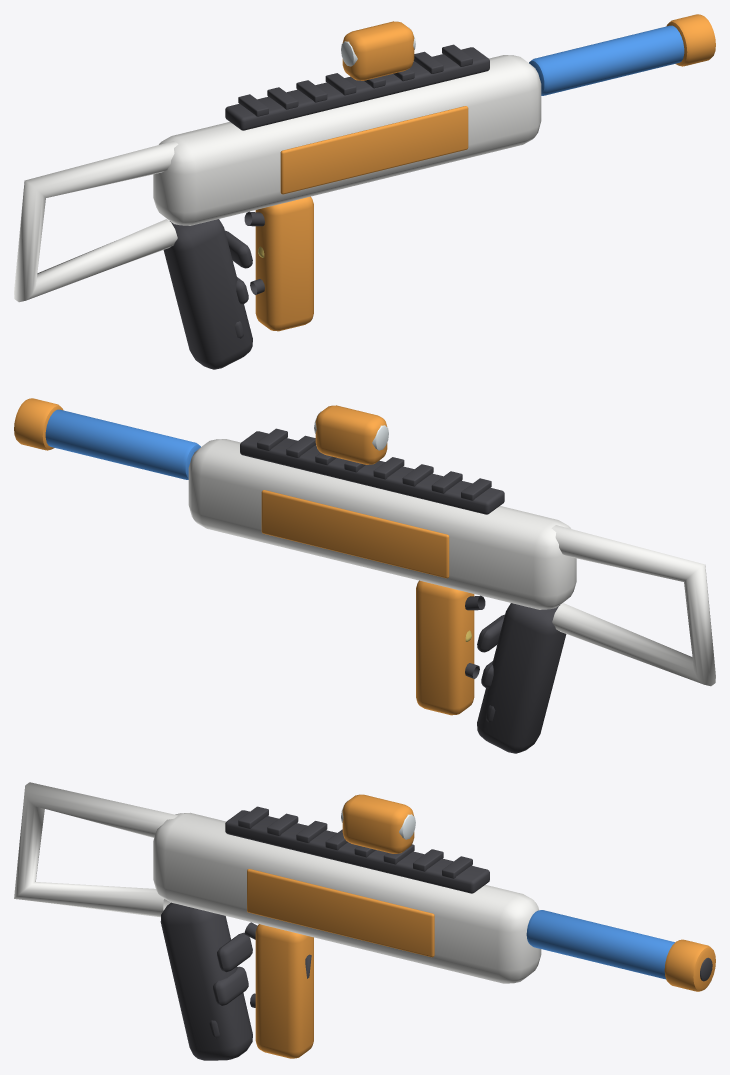
The model's file is burst.glb.
3 views of the same model, one above another, from view 1: azimuth 30°, elevation 25°; view 2: azimuth 150°, elevation 25°; view 3: azimuth 330°, elevation 25° (orthographic).
Parts seen in each view (by area): view 1: body, stock, handle, panel1, mag, barrel, rail, sightbody, muzzle, bump0; view 2: body, stock, handle, panel-1, mag, barrel, rail, sightbody, muzzle, bump0; view 3: body, stock, handle, panel1, mag, barrel, rail, sightbody, muzzle, bump0, bump1.
Part boxes in pixels (box(x1,y1,x2,y2)): body: box(153, 55, 541, 225); stock: box(14, 141, 178, 302); handle: box(163, 219, 252, 369); panel1: box(280, 106, 468, 194); mag: box(255, 196, 313, 331); barrel: box(529, 25, 684, 95); rail: box(225, 47, 489, 130); sightbody: box(342, 21, 414, 80); muzzle: box(666, 14, 715, 66); bump0: box(225, 230, 252, 268); body: box(188, 439, 576, 609); stock: box(551, 525, 715, 686); handle: box(477, 603, 566, 753); panel-1: box(261, 490, 449, 578); mag: box(416, 580, 474, 715); barrel: box(45, 409, 200, 479); rail: box(240, 431, 504, 514); sightbody: box(315, 405, 387, 464); muzzle: box(14, 398, 63, 450); bump0: box(477, 614, 504, 652); body: box(153, 812, 541, 983); stock: box(14, 782, 177, 917); handle: box(160, 902, 252, 1060); panel1: box(247, 869, 434, 957); mag: box(255, 924, 313, 1058); barrel: box(526, 910, 674, 979); rail: box(225, 810, 489, 893); sightbody: box(342, 794, 414, 853); muzzle: box(664, 939, 715, 991); bump0: box(217, 932, 252, 972); bump1: box(213, 966, 248, 1005).
Size of the model in its own units: 0.6649 by 0.2705 by 0.06.
